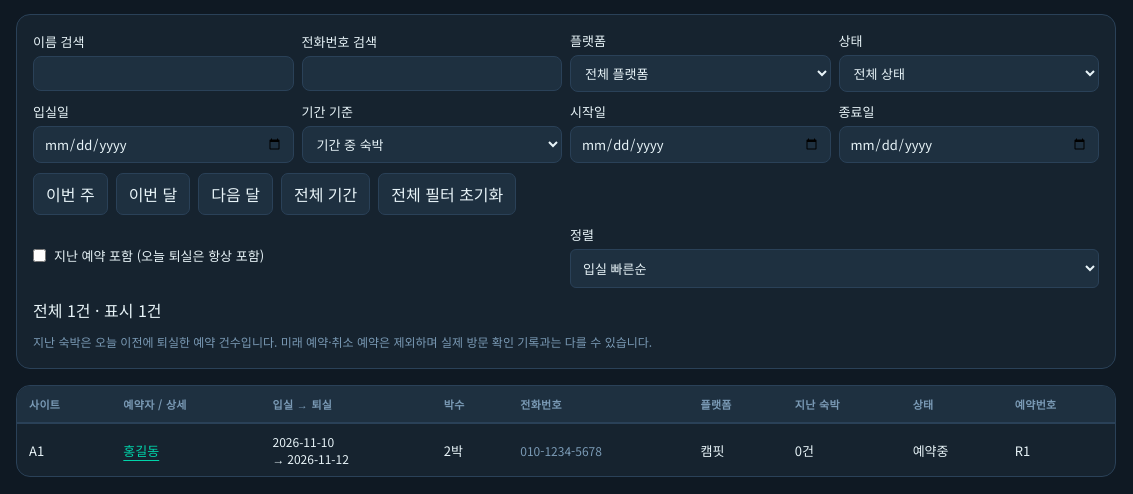
it: details, family view and list › distinguishes whole-period selection from resetting all filters
This screenshot has width=1133, height=494.
Type "홍" into the field labelled "이름 검색" at (163, 74), box [33, 56, 294, 91]
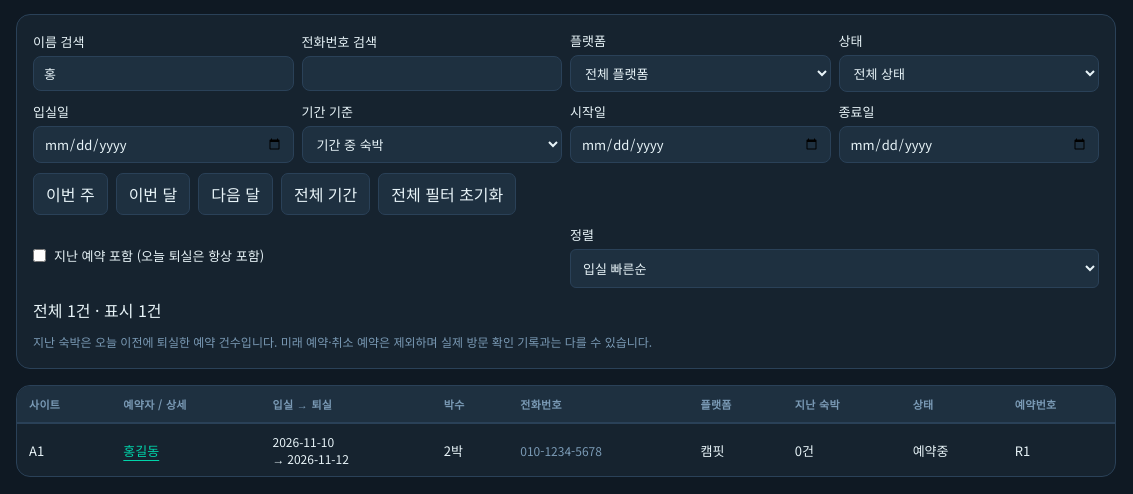
Click the button "전체 기간" at (326, 194), box [281, 173, 370, 215]
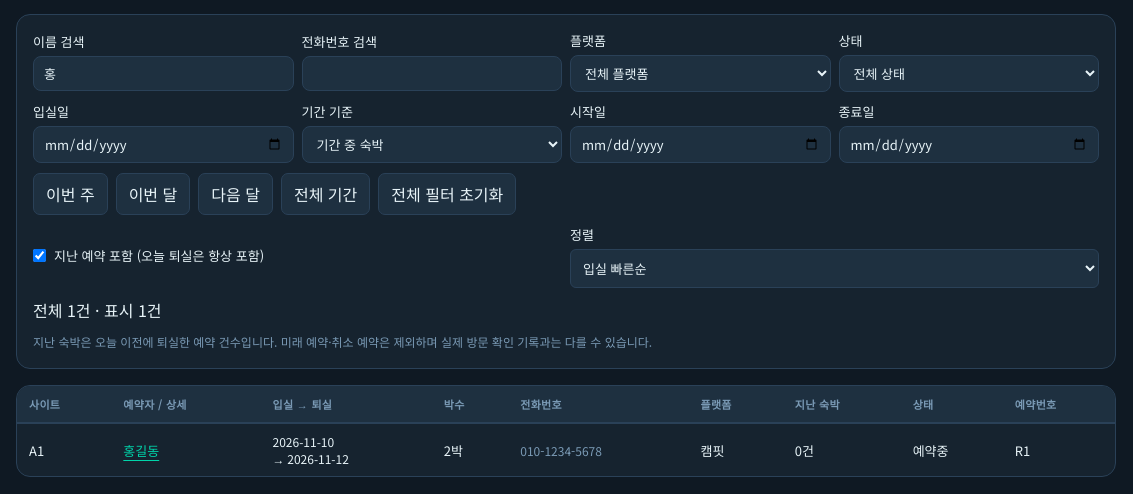
Click the button "전체 필터 초기화" at (447, 194), box [378, 173, 516, 215]
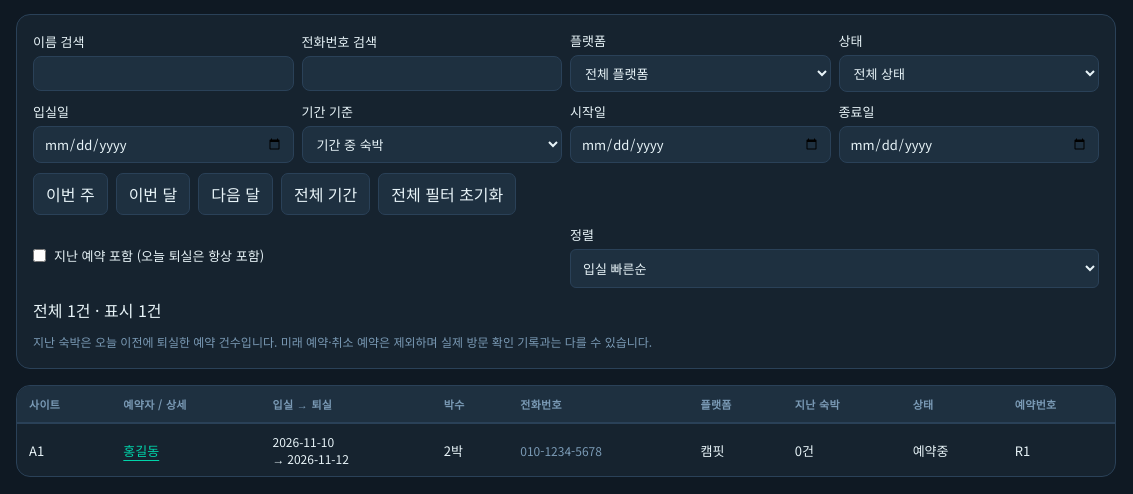
Check: the field labelled "이름 검색" is empty, box [33, 56, 294, 91]
